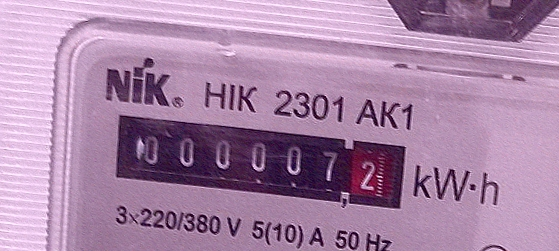0: (208, 133, 236, 173), (137, 129, 163, 167), (246, 137, 270, 177), (280, 140, 305, 178), (174, 132, 198, 169)
2: (355, 156, 380, 194)
7: (315, 145, 341, 185)
screen: (105, 103, 416, 219)
